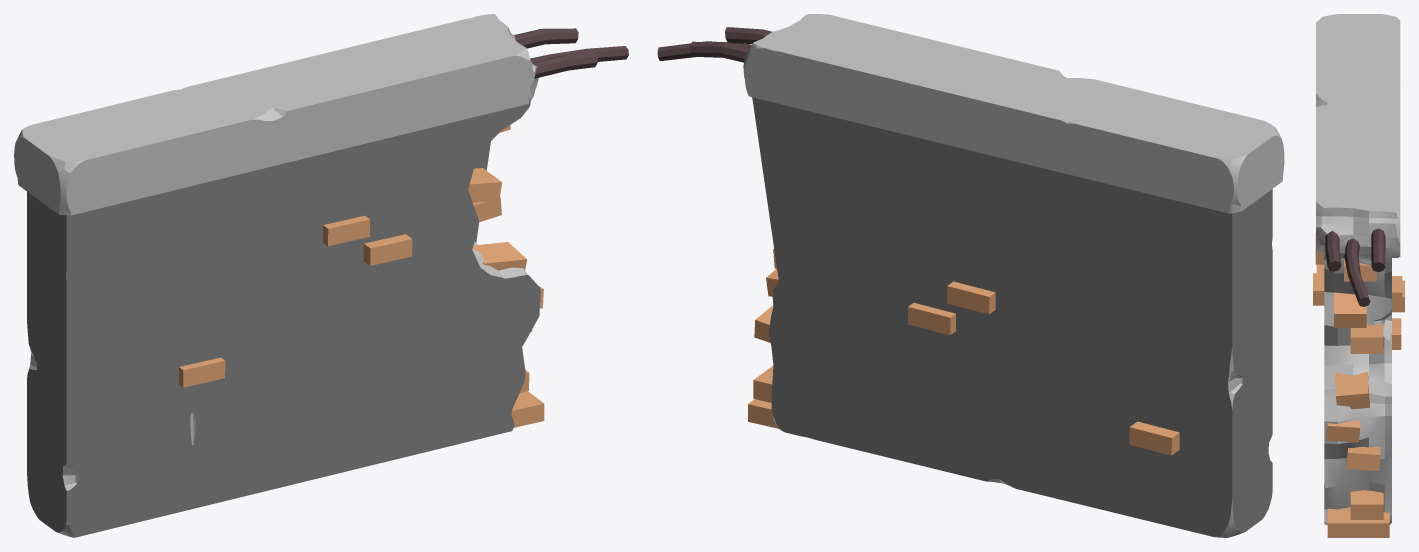
File: wall_damged_1.fbx
The picture shows the model from 3 angles, left to right: view 1: azimuth 30°, elevation 25°; view 2: azimuth 150°, elevation 25°; view 3: azimuth 270°, elevation 25°; orthographic projection. The views are drawn at different scales.
Parts seen in each view (by area): view 1: Cube.004_dmg, Cube.017, Cube.016, Cube.008, Cylinder.003, Cube.015, Cylinder.001, Cube.006, Cube.011, Cylinder.002; view 2: Cube.004_dmg, Cube.020, Cube.019, Cube.018, Cylinder.001; view 3: Cube.004_dmg, Cube.008, Cube.006, Cube.010, Cube.009, Cylinder.002, Cube.011, Cube.012, Cube.013, Cube.014, Cylinder.001, Cylinder.003 (+6 smaller).
Boxes of the visible parts, x1,y1,x2,y2 form: Cube.004_dmg: [14, 14, 540, 537]; Cube.017: [363, 234, 412, 265]; Cube.016: [323, 215, 369, 246]; Cube.008: [472, 242, 527, 270]; Cylinder.003: [532, 51, 597, 78]; Cube.015: [178, 357, 225, 387]; Cylinder.001: [514, 28, 578, 48]; Cube.006: [468, 168, 501, 202]; Cube.011: [511, 391, 544, 427]; Cylinder.002: [530, 46, 628, 62]; Cube.004_dmg: [743, 14, 1284, 537]; Cube.020: [1129, 421, 1179, 455]; Cube.019: [947, 281, 995, 314]; Cube.018: [908, 303, 955, 334]; Cylinder.001: [690, 41, 750, 62]; Cube.004_dmg: [1316, 14, 1400, 524]; Cube.008: [1335, 371, 1369, 409]; Cube.006: [1334, 292, 1366, 327]; Cube.010: [1350, 490, 1383, 519]; Cube.009: [1350, 323, 1383, 353]; Cylinder.002: [1344, 238, 1370, 306]; Cube.011: [1327, 507, 1358, 537]; Cube.012: [1346, 446, 1380, 470]; Cube.013: [1326, 420, 1360, 442]; Cube.014: [1358, 512, 1389, 537]; Cylinder.001: [1371, 228, 1385, 272]; Cylinder.003: [1325, 231, 1341, 271].
Bounding box in the file's own units: 229 × 140 × 36.27.
